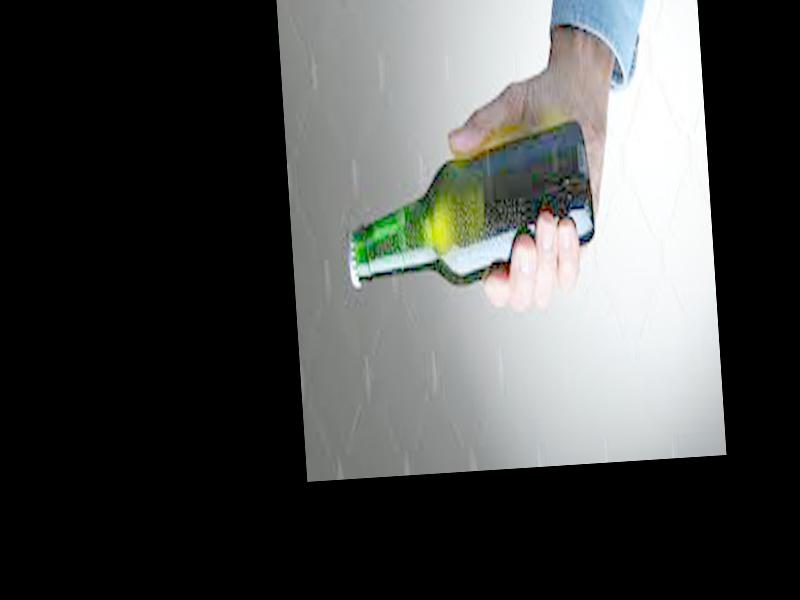Beer: (343, 117, 597, 300)
